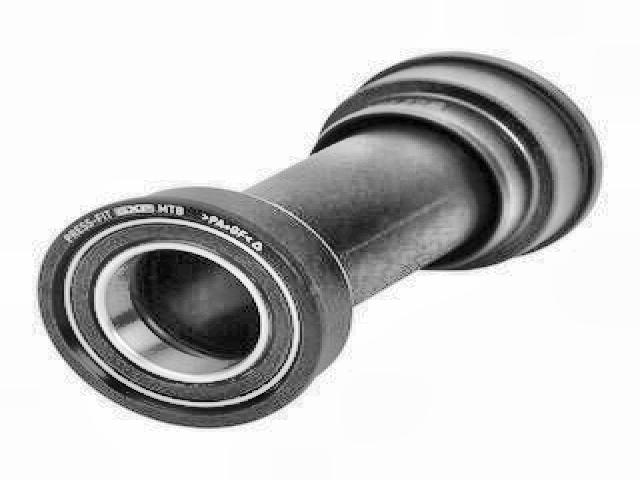bottom_bracket: (31, 48, 606, 432)
